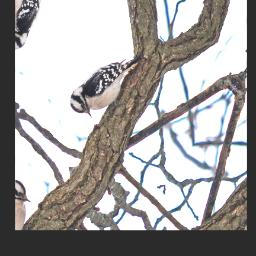Woodpecker: (65, 31, 152, 137)
